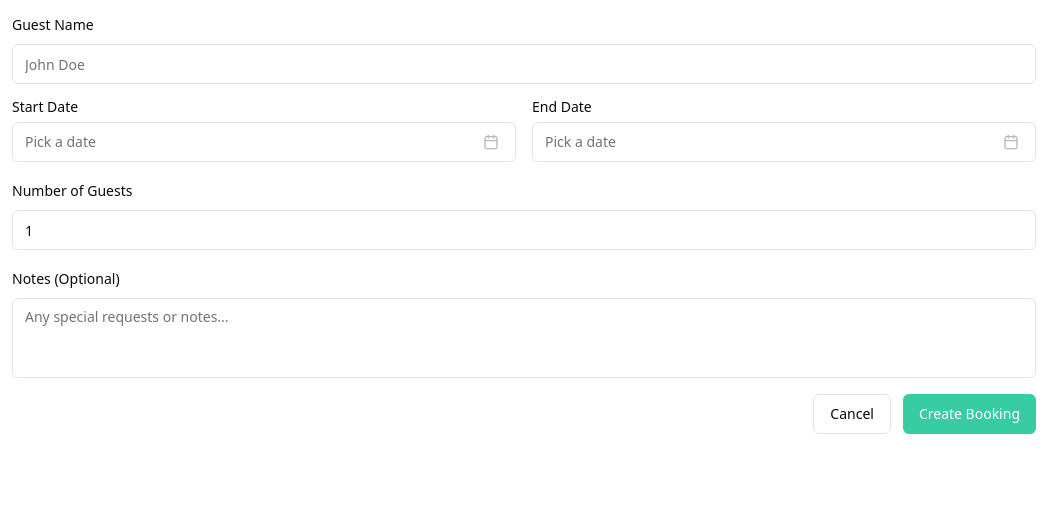
Test case: BookingForm › Form Validation › should show validation error when guest name is too short
This screenshot has width=1048, height=507.
Type "A" into the field labelled "Guest Name".
click(524, 64); type("A")  # box top-left (12, 44), bottom-right (1036, 84)
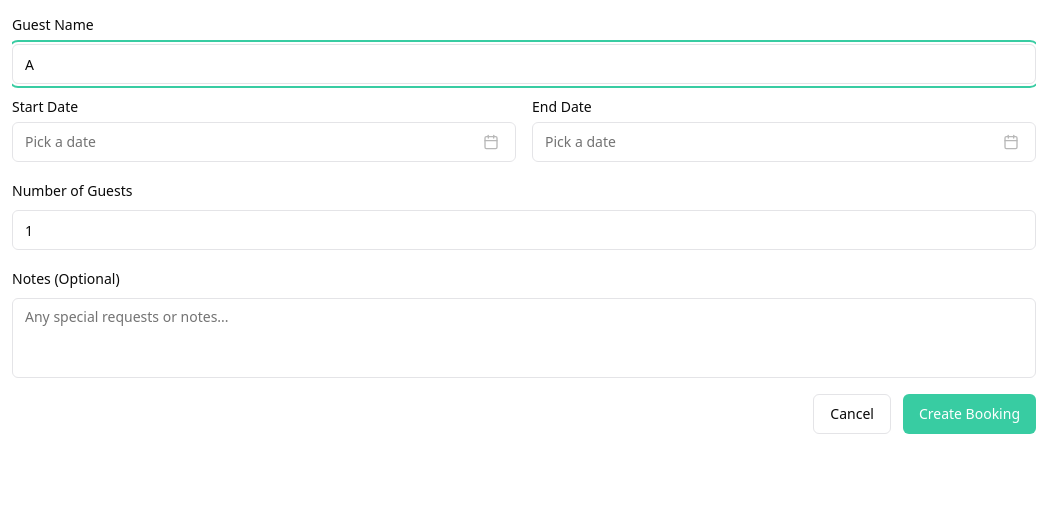
Click the button "Create Booking".
click(969, 414)  # box top-left (903, 394), bottom-right (1036, 434)
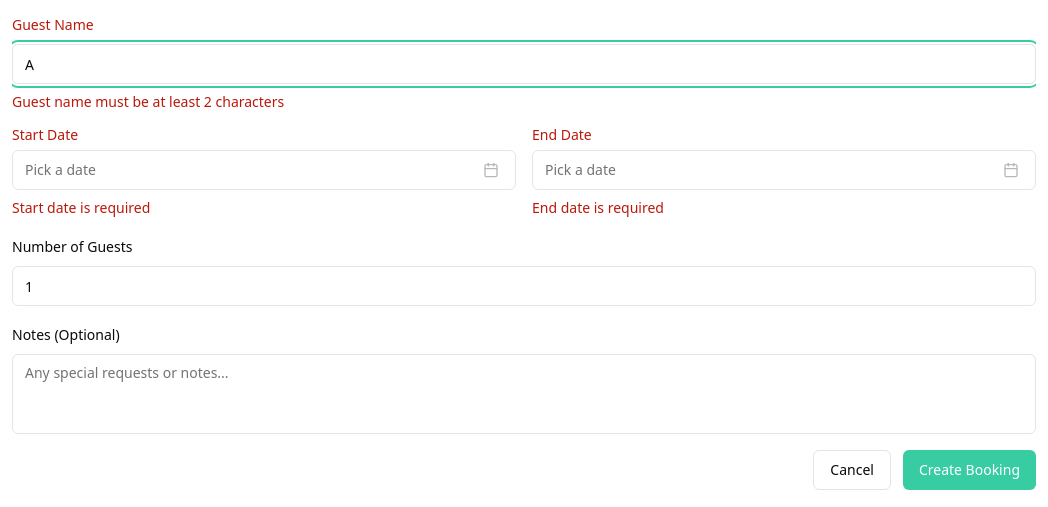
Expected: the text "Guest name must be at least 2 characters" is shown, top-left (12, 92), bottom-right (284, 111)
